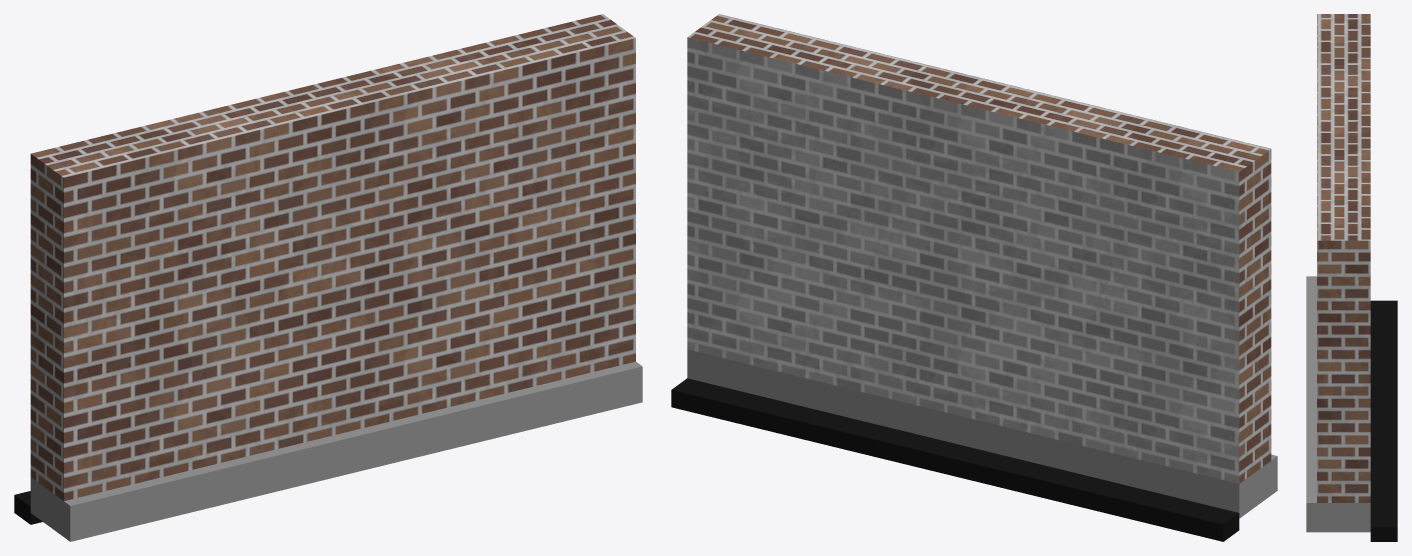
The model's file is Straight_Wall_001.FBX.
3 renders of one model, left to right at view 1: azimuth 30°, elevation 25°; view 2: azimuth 150°, elevation 25°; view 3: azimuth 270°, elevation 25°, orthographic. The views are drawn at different scales.
Visible parts, largest first — view 1: Straight_Wall_001; view 2: Straight_Wall_001; view 3: Straight_Wall_001.
Part boxes in pixels (box(x1,y1,x2,y2)): Straight_Wall_001: box(14, 14, 642, 541); Straight_Wall_001: box(671, 14, 1277, 541); Straight_Wall_001: box(1306, 14, 1397, 541).
Size of the model in its own units: 500 by 85 by 310.
